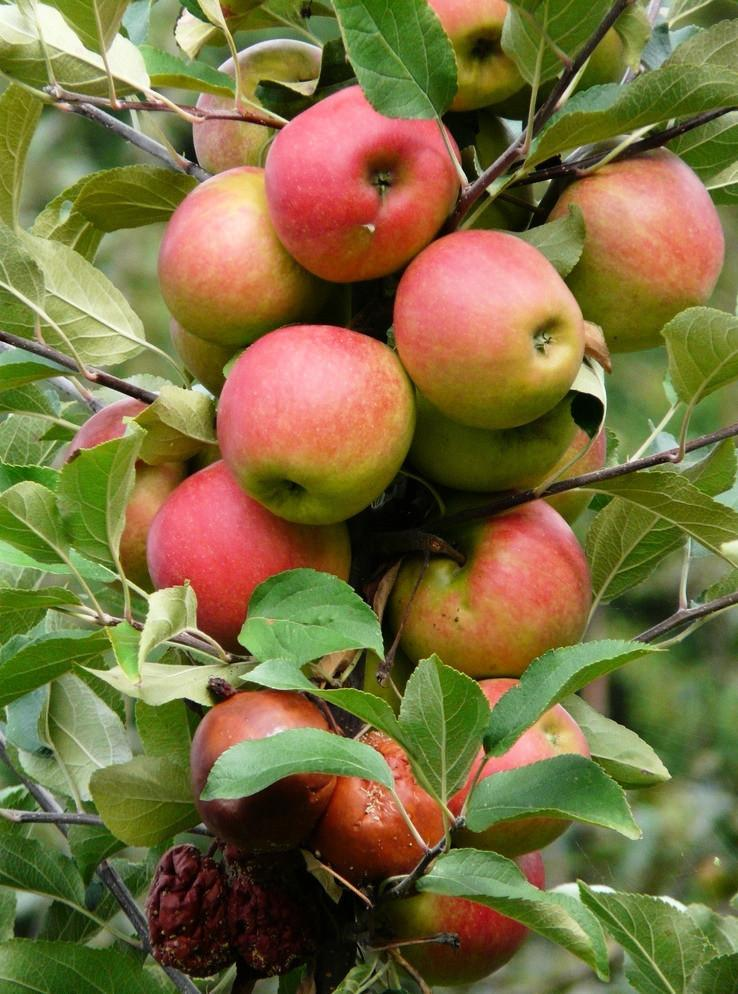apple: (390, 227, 589, 434), (214, 326, 416, 526), (144, 457, 352, 650), (380, 498, 592, 687), (546, 144, 729, 356), (265, 91, 458, 285), (158, 164, 336, 348), (454, 677, 590, 853), (391, 848, 544, 984), (307, 742, 446, 888), (191, 687, 331, 809), (427, 1, 525, 117), (113, 463, 187, 592), (59, 400, 156, 466)
